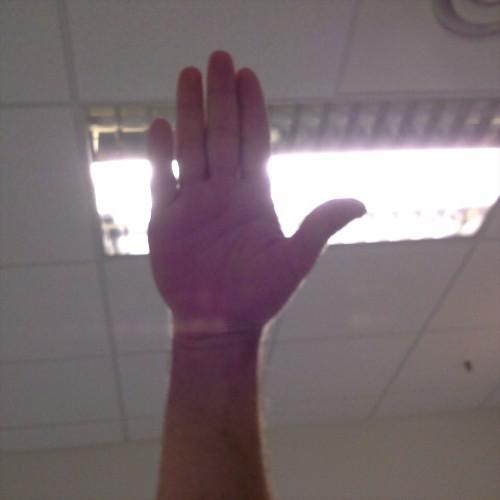paper: (142, 42, 370, 343)
